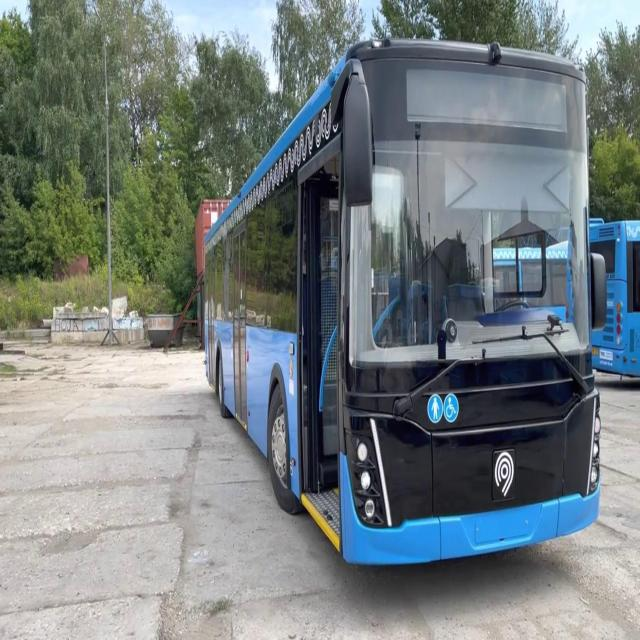bus: (202, 34, 607, 574)
